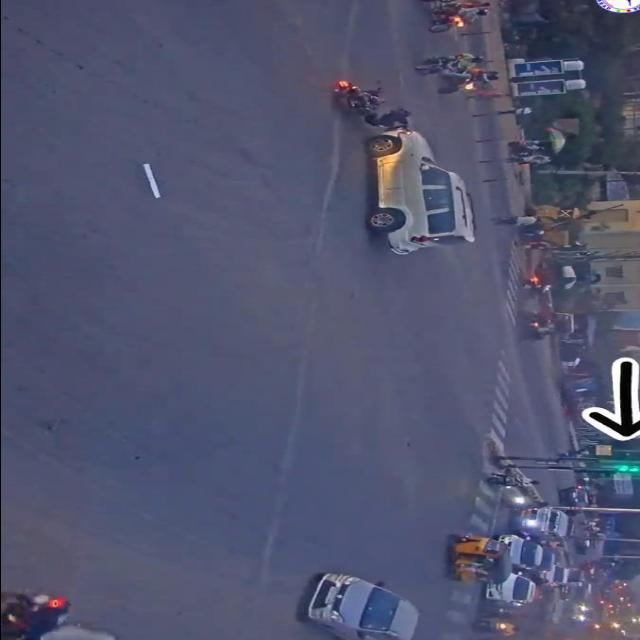accident: (312, 80, 488, 265)
non_accident: (435, 473, 567, 635), (410, 54, 508, 98), (400, 0, 500, 36)
